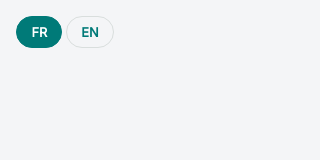
pre-login picker › switches the interface, remembers the choice and shows which language is active
This screenshot has width=320, height=160.
Click the button "EN" at x=90, y=32, box [66,16,114,48]
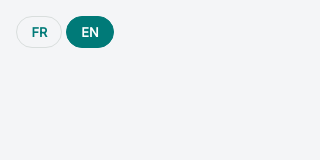
Check: the button "EN" is pressed, box [66,16,114,48]
Check: the button "FR" is not pressed, box [16,16,62,48]
